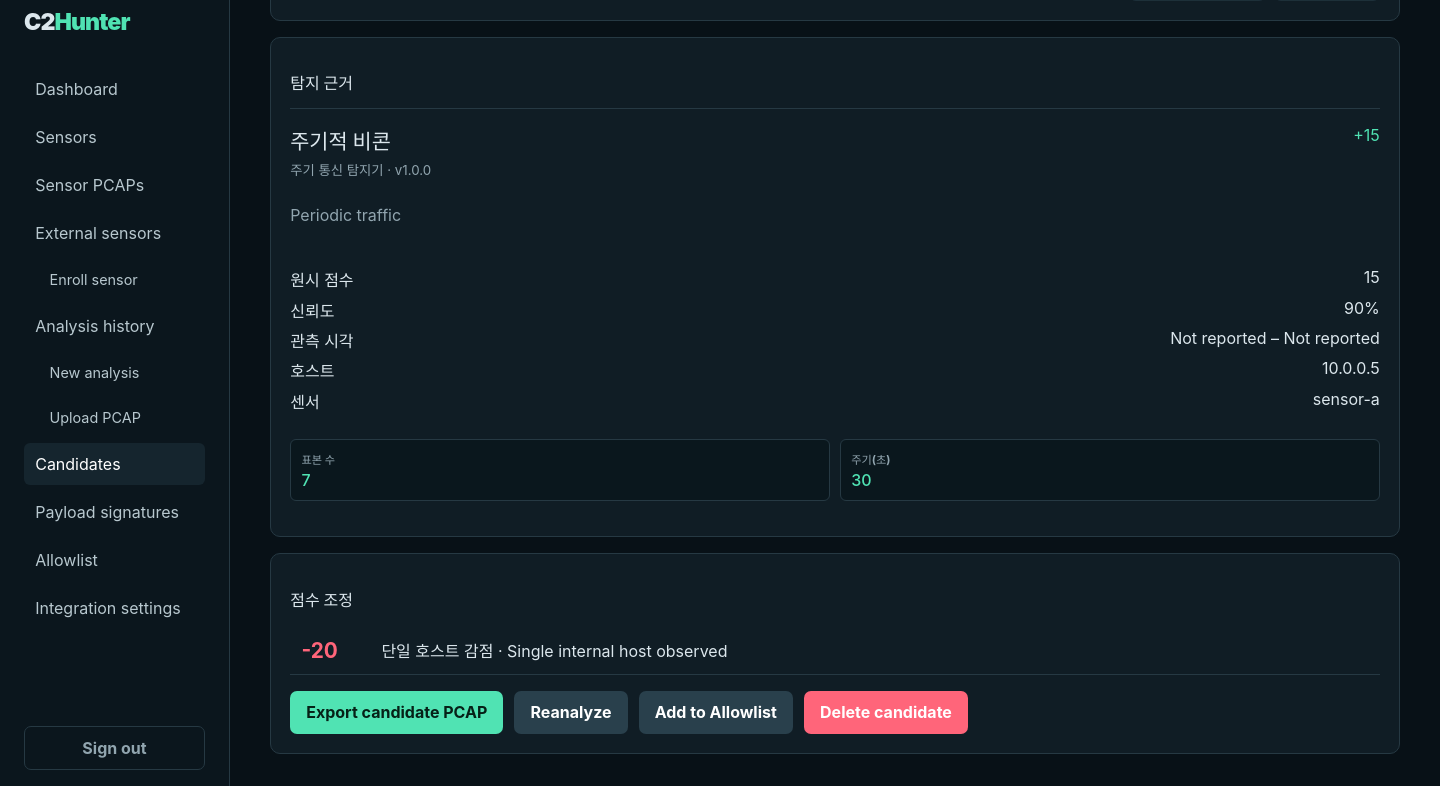
Test: C2Hunter UI › explains when candidate export found no match in an incomplete source prefix
(page scrolled)
Click the button "Export candidate PCAP": coordinates (397, 712) [290,691,503,734]
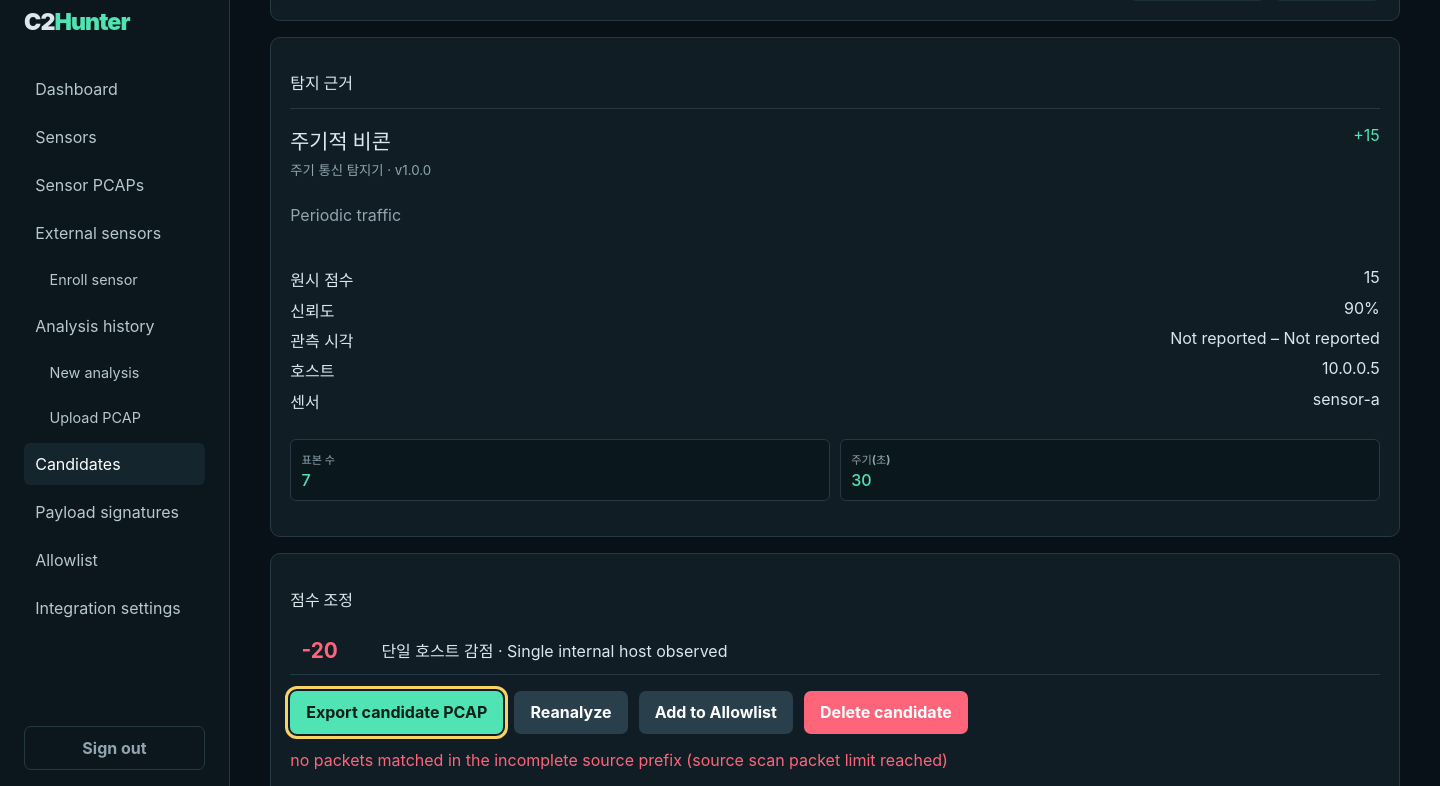
Now the 1st message shows "no packets matched in the incomplete source prefix (source scan packet limit reached)", box [290,750,948,770]
